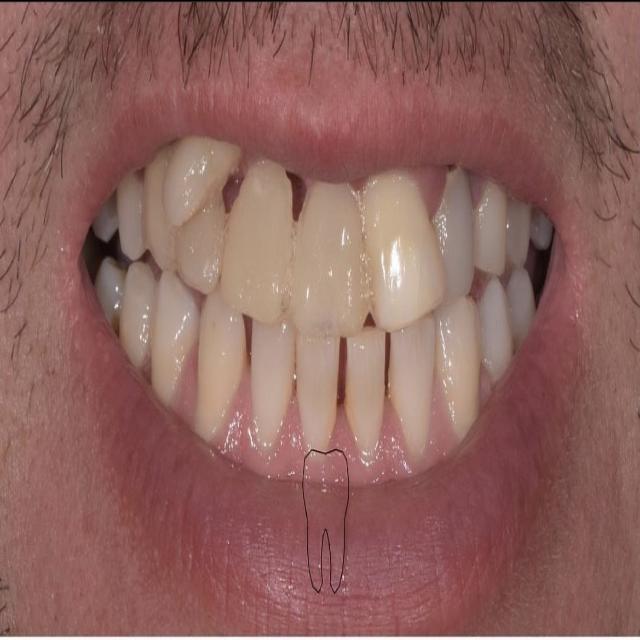tooth: (364, 157, 444, 340), (296, 185, 362, 334), (230, 160, 286, 327), (284, 330, 352, 459), (201, 305, 250, 454), (383, 336, 441, 456), (344, 338, 392, 470), (248, 328, 298, 451), (157, 263, 193, 406), (432, 173, 474, 284), (443, 322, 484, 424), (146, 166, 182, 272), (125, 264, 159, 372), (173, 133, 220, 210), (480, 173, 507, 287), (186, 206, 223, 278), (116, 168, 145, 256)
